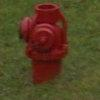Hydrant: (15, 0, 73, 87)
